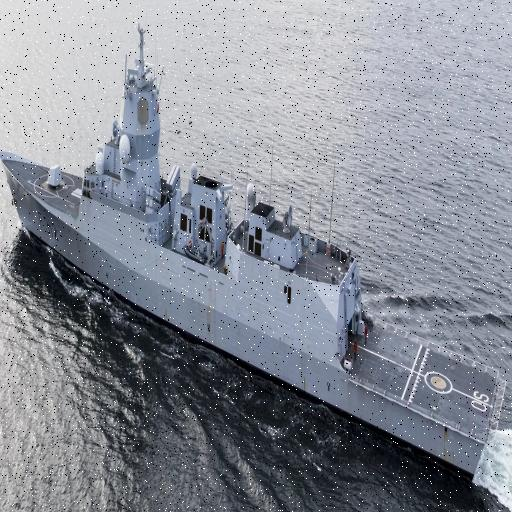Fragata: (1, 12, 508, 491)
